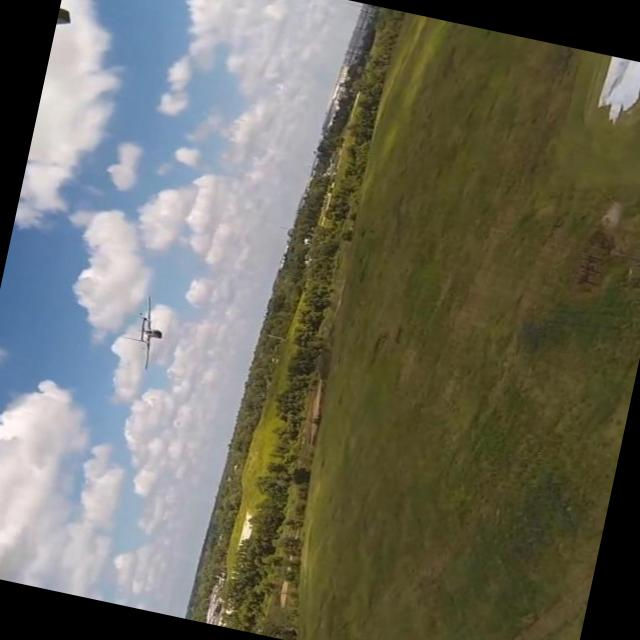UAV: (114, 276, 207, 369)
